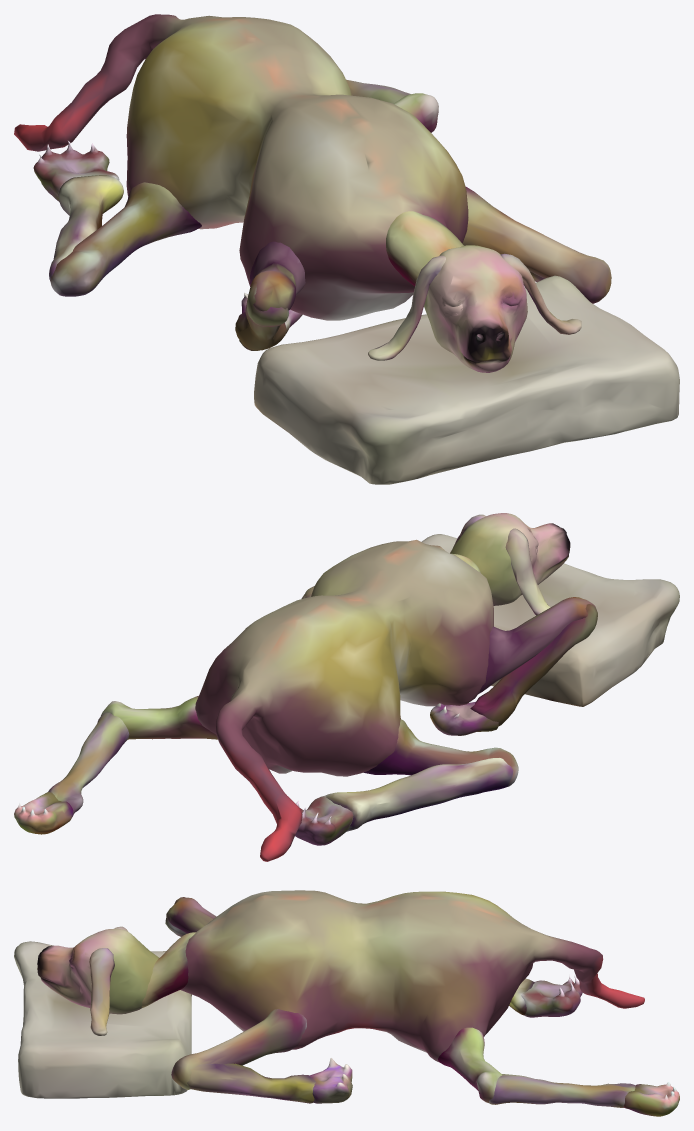
The model's file is dog.glb.
3 renders of one model, top to bottom at view 1: azimuth 30°, elevation 25°; view 2: azimuth 150°, elevation 25°; view 3: azimuth 270°, elevation 25°, orthographic. The views are drawn at different scales.
Parts seen in each view (by area): view 1: corps, coussin, face_ferme, derriere droite cuisse, avant gauche cuisse, derriere droite mollet, cou, avant droite cuisse, derriere droite patte, avant droit mollet, face_ouverte, oreille_droite (+3 smaller); view 2: corps, coussin, derriere droite mollet, face_ferme, avant droite cuisse, avant droit mollet, derriere droite cuisse, derriere gauche mollet, derriere gauche cuisse, derriere droite patte, derriere gauche patte, oreille_droite (+2 smaller); view 3: corps, coussin, face_ferme, avant gauche cuisse, avant gauche mollet, derriere gauche mollet, derriere gauche cuisse, cou, derriere droite patte, oreille_gauche, derriere gauche patte, Avant gauche patte (+3 smaller).
Boxes of the visible parts, bbox=[...] form: corps: bbox=[14, 14, 468, 320]; coussin: bbox=[254, 275, 679, 484]; face_ferme: bbox=[424, 245, 527, 372]; derriere droite cuisse: bbox=[50, 182, 201, 296]; avant gauche cuisse: bbox=[462, 186, 611, 303]; derriere droite mollet: bbox=[49, 175, 123, 280]; cou: bbox=[386, 211, 463, 286]; avant droite cuisse: bbox=[250, 241, 305, 311]; derriere droite patte: bbox=[33, 141, 119, 201]; avant droit mollet: bbox=[235, 282, 289, 350]; face_ouverte: bbox=[425, 266, 526, 338]; oreille_droite: bbox=[368, 255, 445, 360]; corps: bbox=[195, 539, 493, 861]; coussin: bbox=[421, 534, 679, 706]; derriere droite mollet: bbox=[325, 758, 513, 831]; face_ferme: bbox=[450, 513, 570, 605]; avant droite cuisse: bbox=[478, 597, 595, 693]; avant droit mollet: bbox=[470, 604, 597, 725]; derriere droite cuisse: bbox=[363, 719, 518, 787]; derriere gauche mollet: bbox=[48, 712, 129, 813]; derriere gauche cuisse: bbox=[100, 696, 217, 739]; derriere droite patte: bbox=[295, 795, 353, 845]; derriere gauche patte: bbox=[14, 792, 73, 834]; oreille_droite: bbox=[505, 528, 550, 615]; corps: bbox=[180, 890, 644, 1062]; coussin: bbox=[14, 941, 191, 1098]; face_ferme: bbox=[37, 928, 158, 1014]; avant gauche cuisse: bbox=[171, 1009, 306, 1089]; avant gauche mollet: bbox=[187, 1063, 315, 1103]; derriere gauche mollet: bbox=[488, 1074, 635, 1107]; derriere gauche cuisse: bbox=[438, 1027, 501, 1102]; cou: bbox=[141, 932, 195, 1007]; derriere droite patte: bbox=[521, 974, 582, 1017]; oreille_gauche: bbox=[89, 948, 114, 1035]; derriere gauche patte: bbox=[623, 1082, 679, 1116]; Avant gauche patte: bbox=[309, 1058, 352, 1103].
Bounding box in the file's own units: 9.54 × 4.26 × 17.05.
